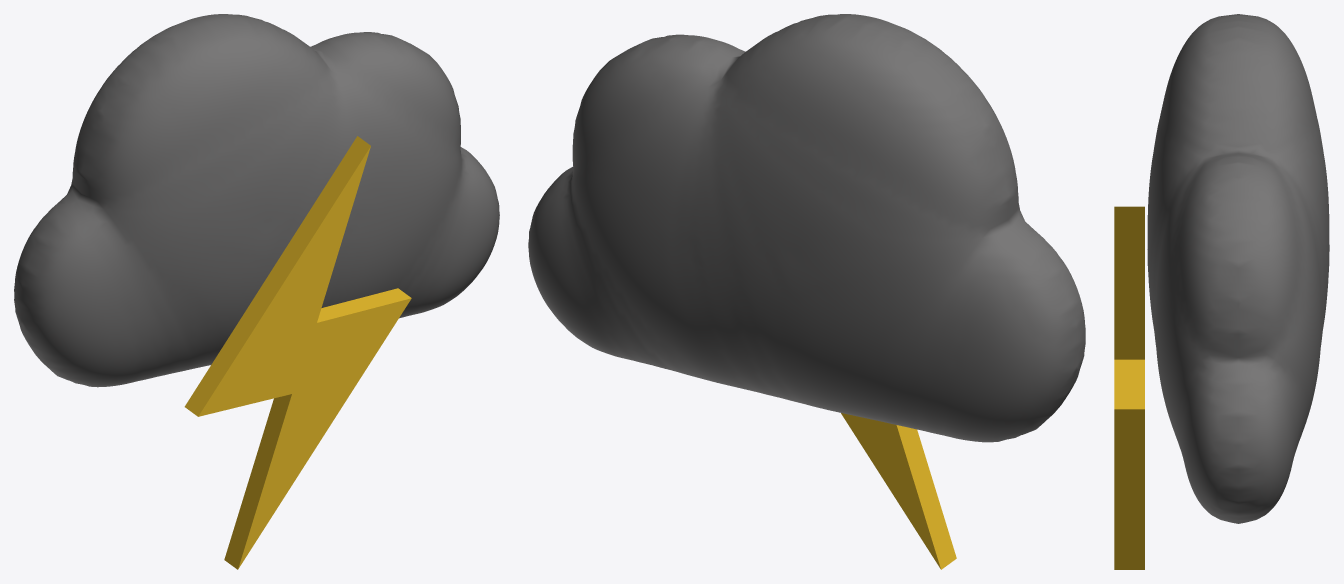
The model's file is Storm.glb.
3 renders of one model, left to right at view 1: azimuth 30°, elevation 25°; view 2: azimuth 150°, elevation 25°; view 3: azimuth 270°, elevation 25°, orthographic. The views are drawn at different scales.
Visible parts, largest first — view 1: Object_11, Object_9; view 2: Object_11, Object_9; view 3: Object_11, Object_9.
Part boxes in pixels (x1,y1,x2,y2): Object_11: [14, 14, 499, 387]; Object_9: [184, 136, 411, 569]; Object_11: [528, 14, 1085, 442]; Object_9: [841, 413, 956, 569]; Object_11: [1147, 14, 1329, 523]; Object_9: [1114, 206, 1144, 569].
Size of the model in its own units: 0.1453 by 0.1469 by 0.0515.
Materials: 2 (2 with a texture image).
